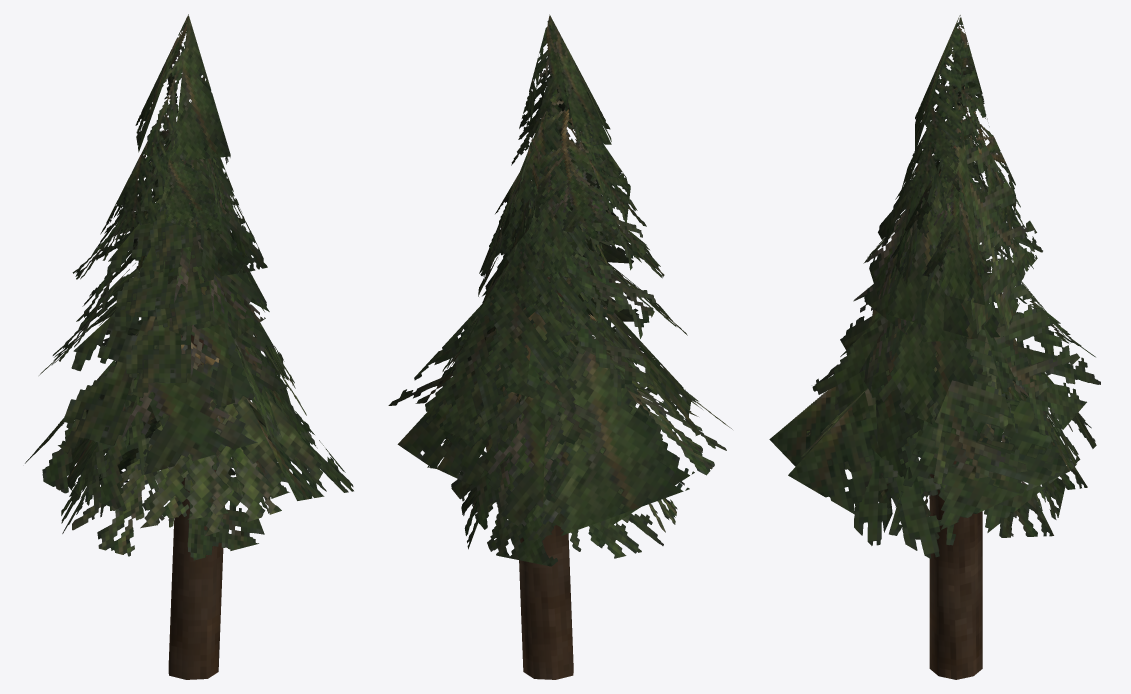
File: tree_3.fbx
The picture shows the model from 3 angles, left to right: view 1: azimuth 30°, elevation 25°; view 2: azimuth 150°, elevation 25°; view 3: azimuth 270°, elevation 25°; orthographic projection.
Parts seen in each view (by area): view 1: tree_3; view 2: tree_3; view 3: tree_3.
Part boxes in pixels (x1,y1,x2,y2): tree_3: (25,14,353,679); tree_3: (388,14,732,679); tree_3: (769,15,1100,679).
Bounding box in the file's own units: 472 × 487 × 1011.
